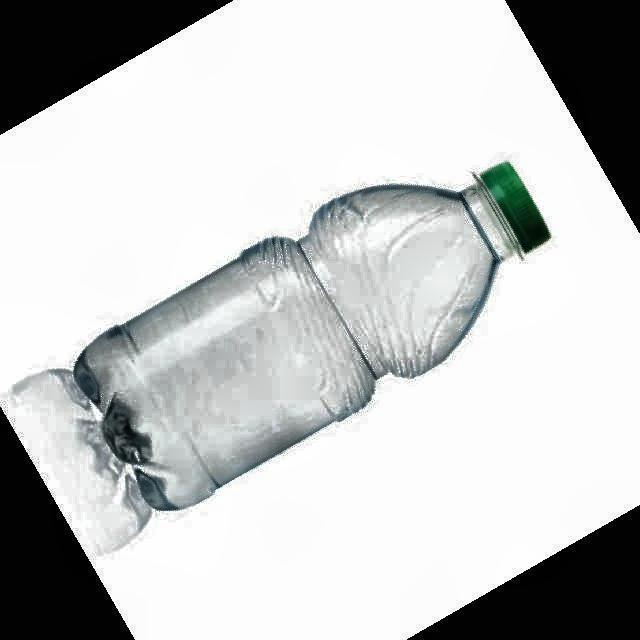plastic: (75, 162, 549, 509)
